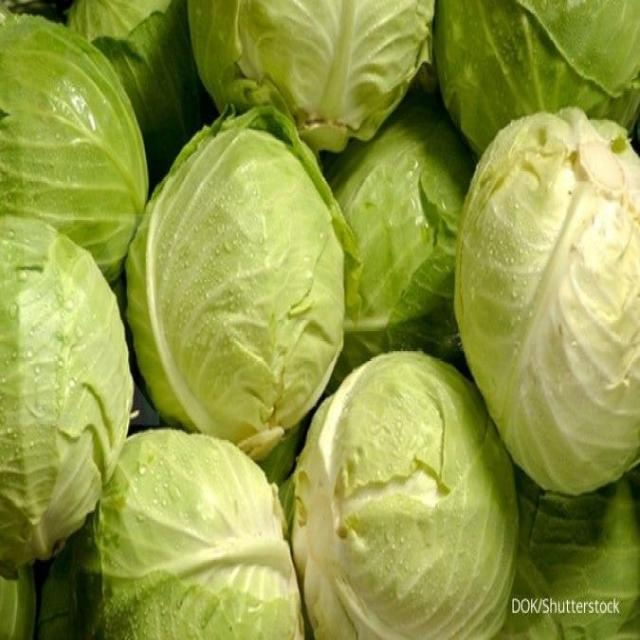Organik: (142, 99, 356, 451), (292, 334, 536, 640), (454, 101, 640, 486), (66, 414, 304, 640), (0, 220, 129, 551), (0, 5, 153, 282), (431, 0, 640, 181), (186, 0, 454, 139), (333, 104, 468, 355), (61, 0, 239, 162), (515, 466, 640, 639)
